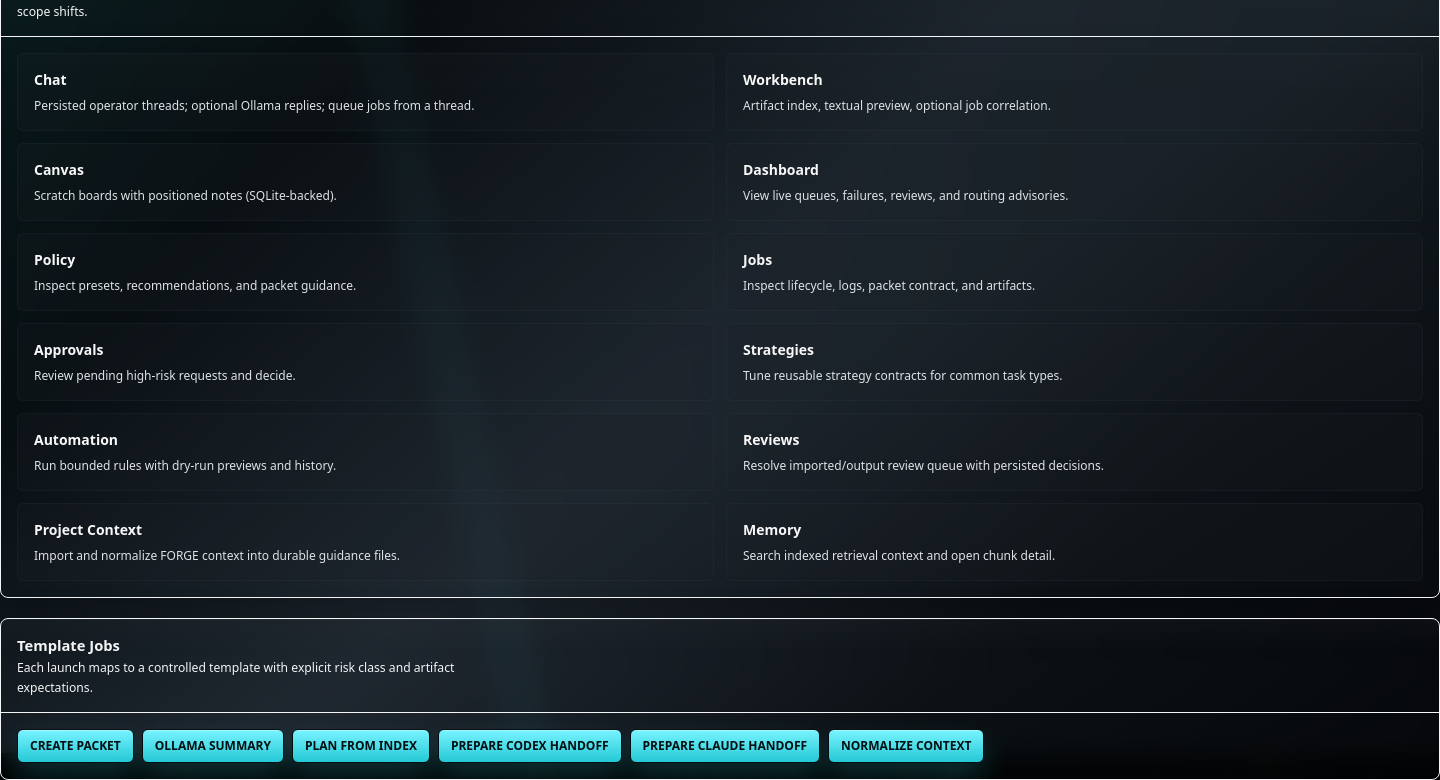
Test: CommandPage › shows a page error when a template job cannot be queued
(page scrolled)
Step 1. Click the button "Create packet" → (75, 746), box 17,729 -> 134,763
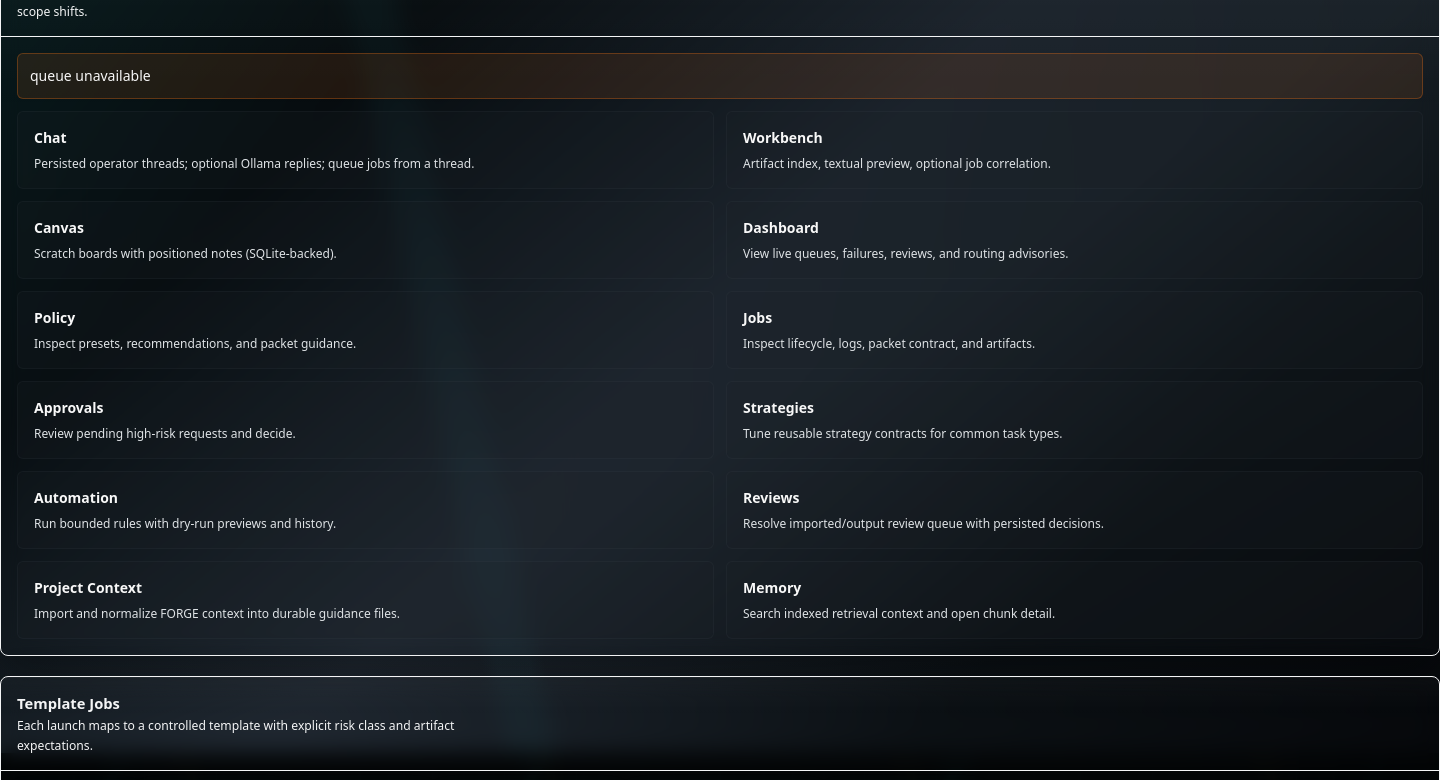
Now the text "queue unavailable" is shown, box 17,53 -> 1423,99
